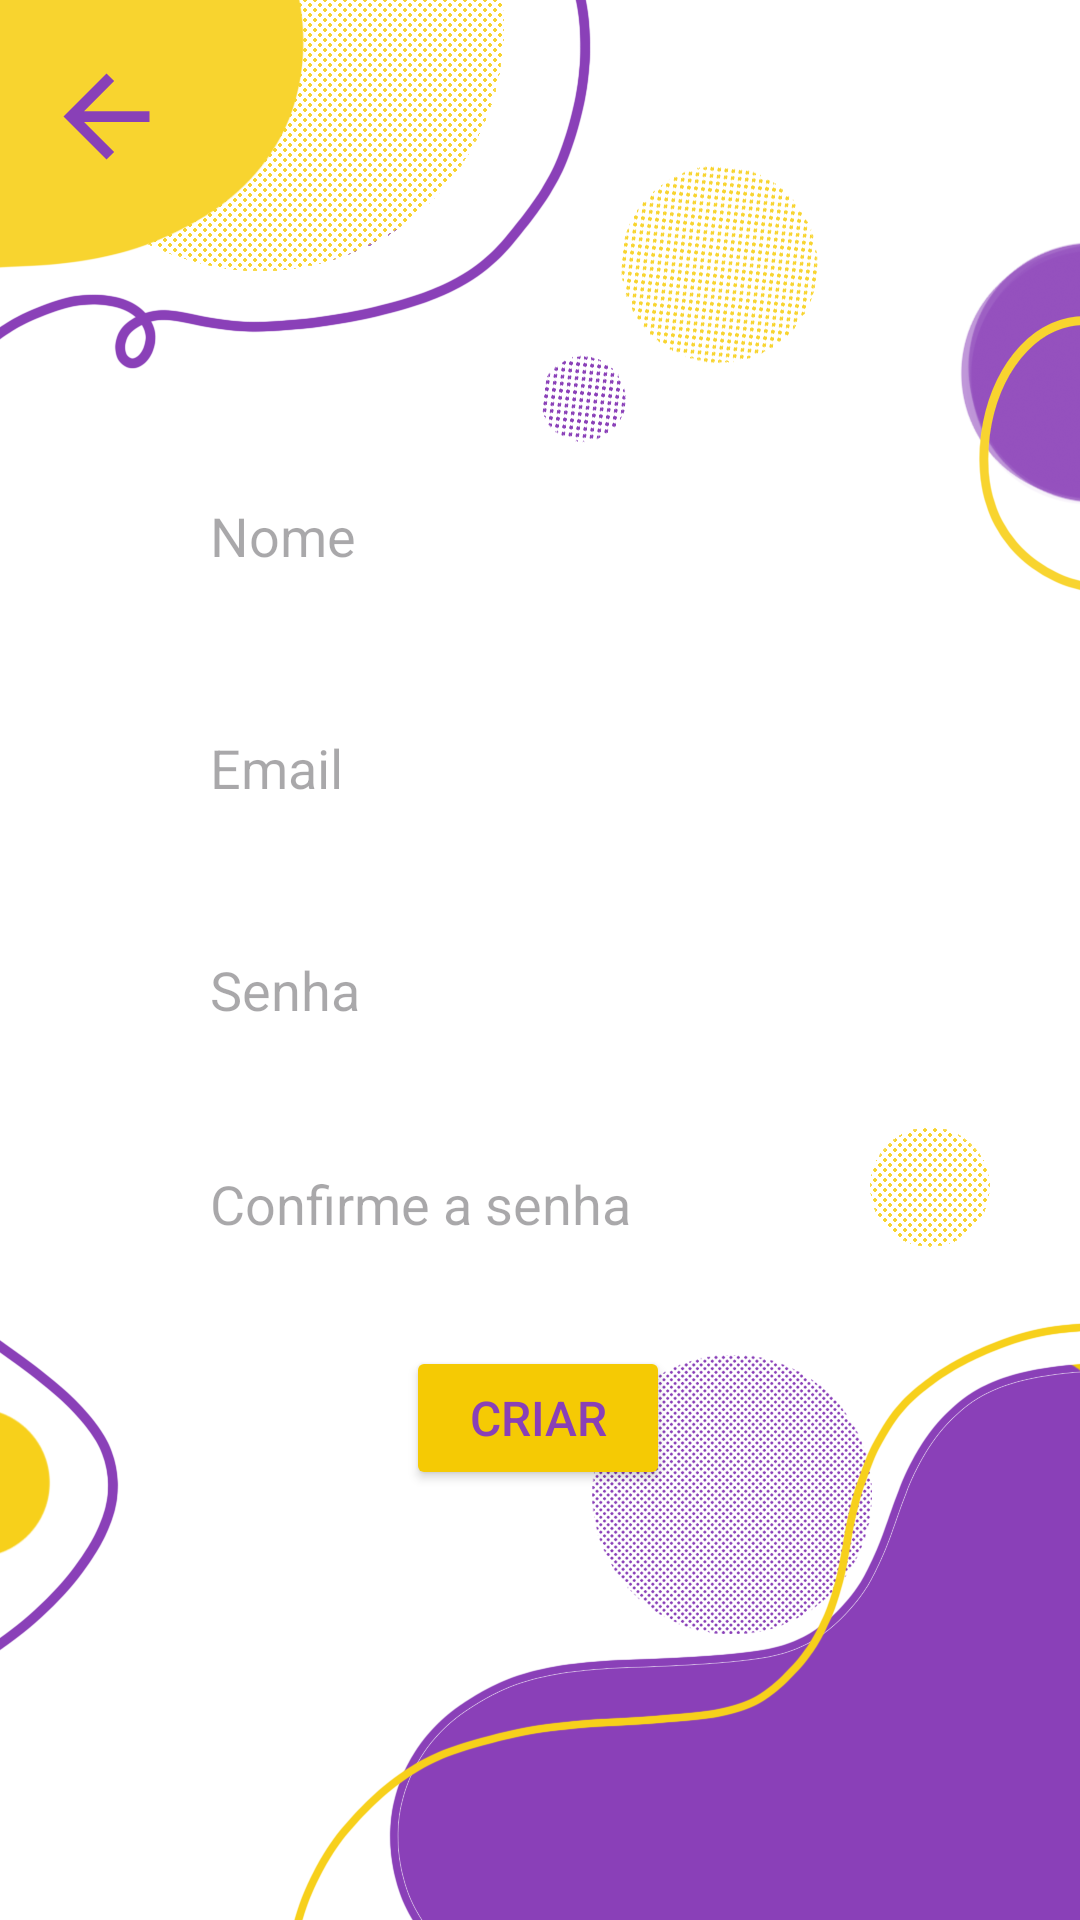

Icons on this 1080px x 1920px Android screen, each with the point to tap as point (x, y):
arrowback: point (106, 116)
